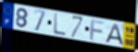7: (70, 15, 85, 39), (33, 8, 46, 33)
8: (15, 7, 28, 29)
A: (104, 23, 124, 47)
F: (89, 19, 106, 42)
L: (53, 12, 67, 37)
